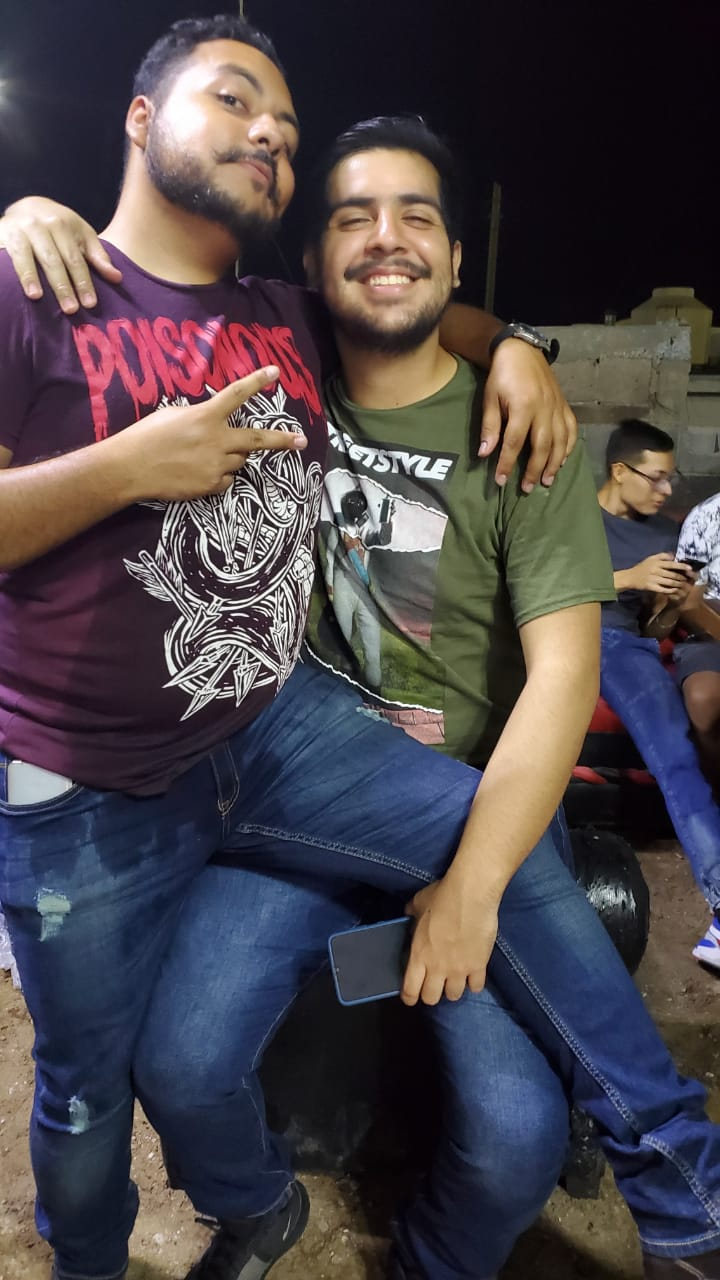Yoshi: (76, 11, 319, 391)
